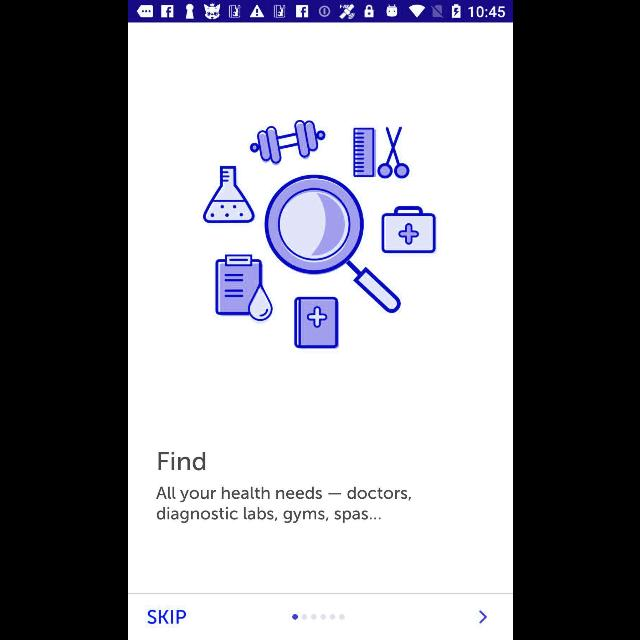icon: (478, 610, 486, 624)
image: (202, 120, 436, 350)
pageindicator: (292, 614, 344, 620)
text: (155, 486, 411, 524), (157, 451, 206, 472), (146, 610, 186, 624)
uppertaskbar: (128, 1, 512, 23)
